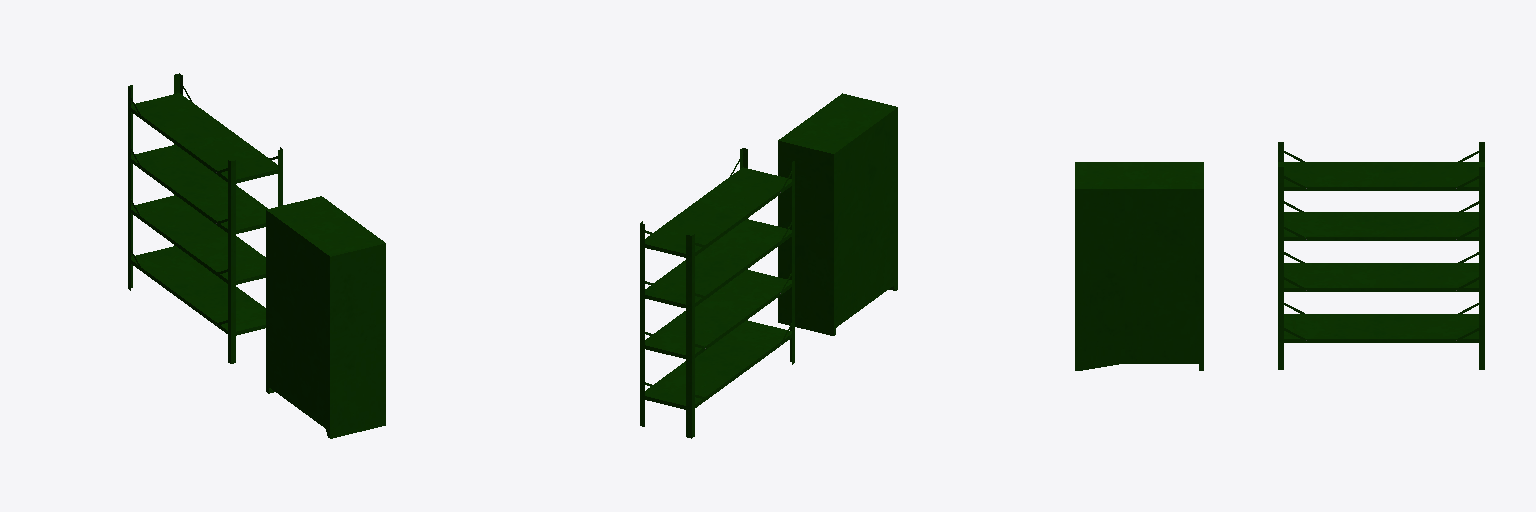
3 views of the same model, side by side, from view 1: azimuth 30°, elevation 25°; view 2: azimuth 150°, elevation 25°; view 3: azimuth 270°, elevation 25° (orthographic).
Parts seen in each view (by area): view 1: locker, rack; view 2: rack, locker; view 3: rack, locker_door_2, locker_door_1, locker.
Part boxes in pixels (x1,y1,x2,y2): locker: (266,196,385,438); rack: (128,73,282,363); rack: (640,148,794,438); locker: (778,93,897,335); rack: (1278,142,1484,369); locker_door_2: (1142,191,1201,360); locker_door_1: (1078,191,1136,360); locker: (1075,162,1203,370).
Size of the model in its own units: 0.6 by 2.08 by 3.81.
Materials: 1 (1 with a texture image).